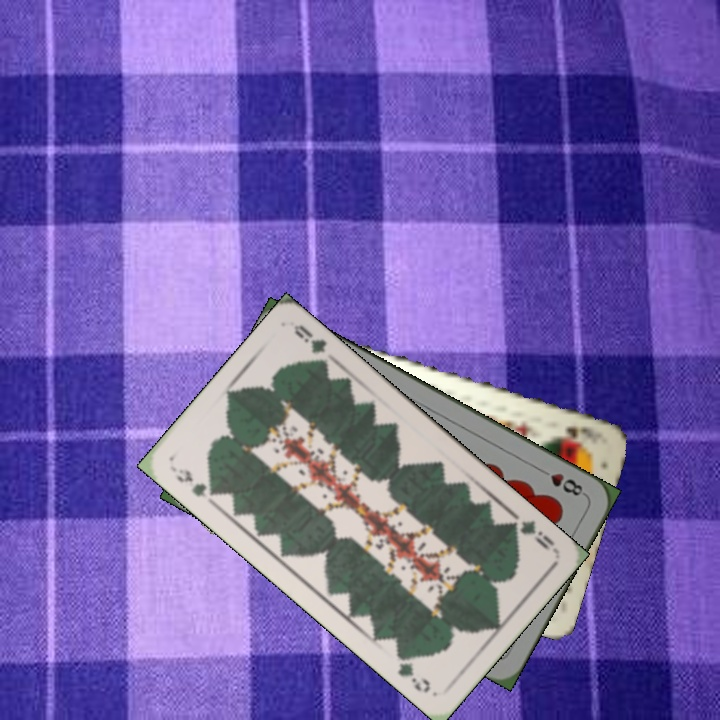G9: (504, 510, 559, 554), (167, 463, 222, 507)
H8: (534, 464, 589, 499)
SK: (553, 421, 595, 443)
